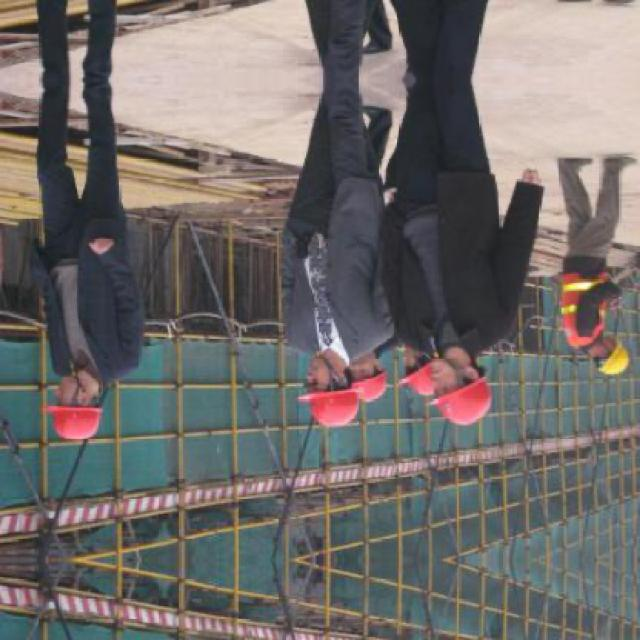con casco: (408, 339, 518, 439), (38, 344, 132, 459), (288, 344, 378, 438), (339, 347, 406, 424)
